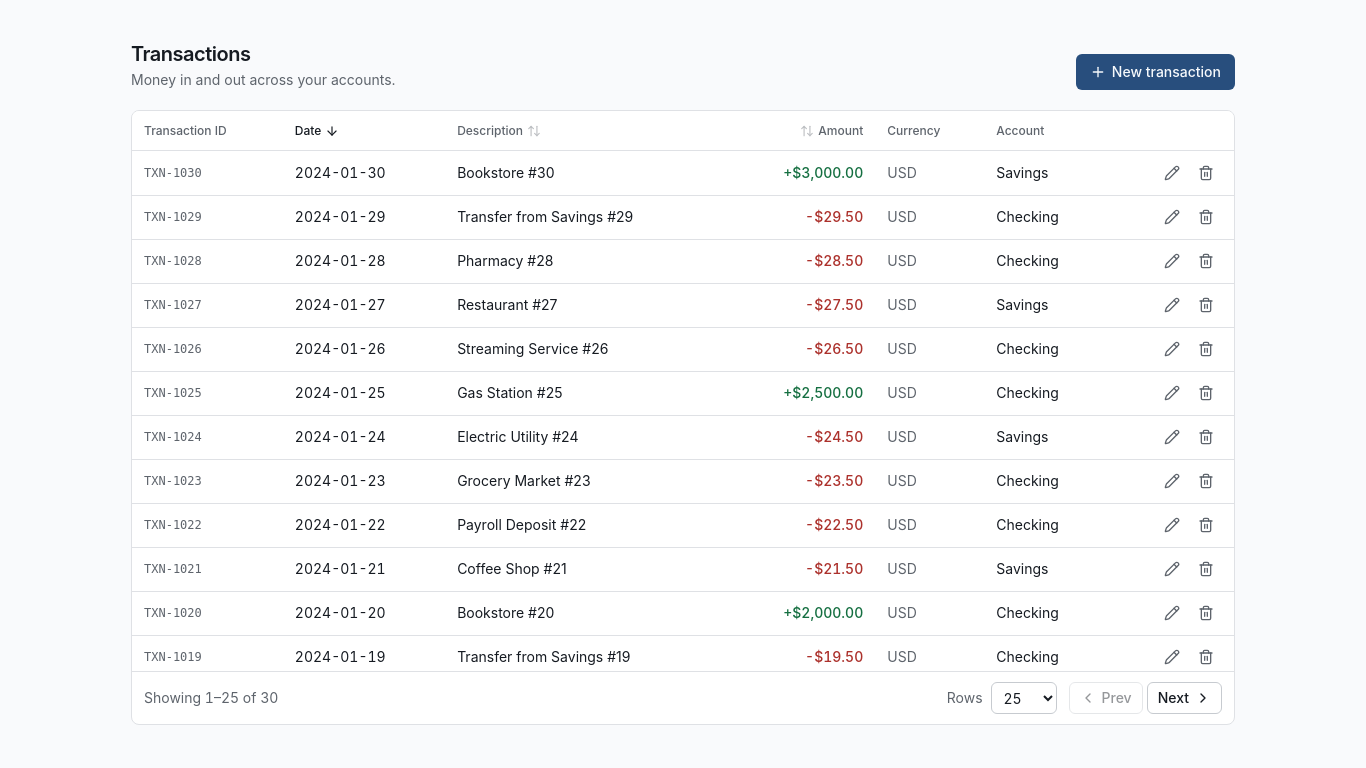
Test: TransactionsTable › clicking Next requests page 2 and shows its rows
The width and height of the screenshot is (1366, 768).
expect the text "TXN-1030" is shown: met, box [132,151,283,195]
Click the button "Next".
click(1184, 698)  # box [1147,682,1222,714]
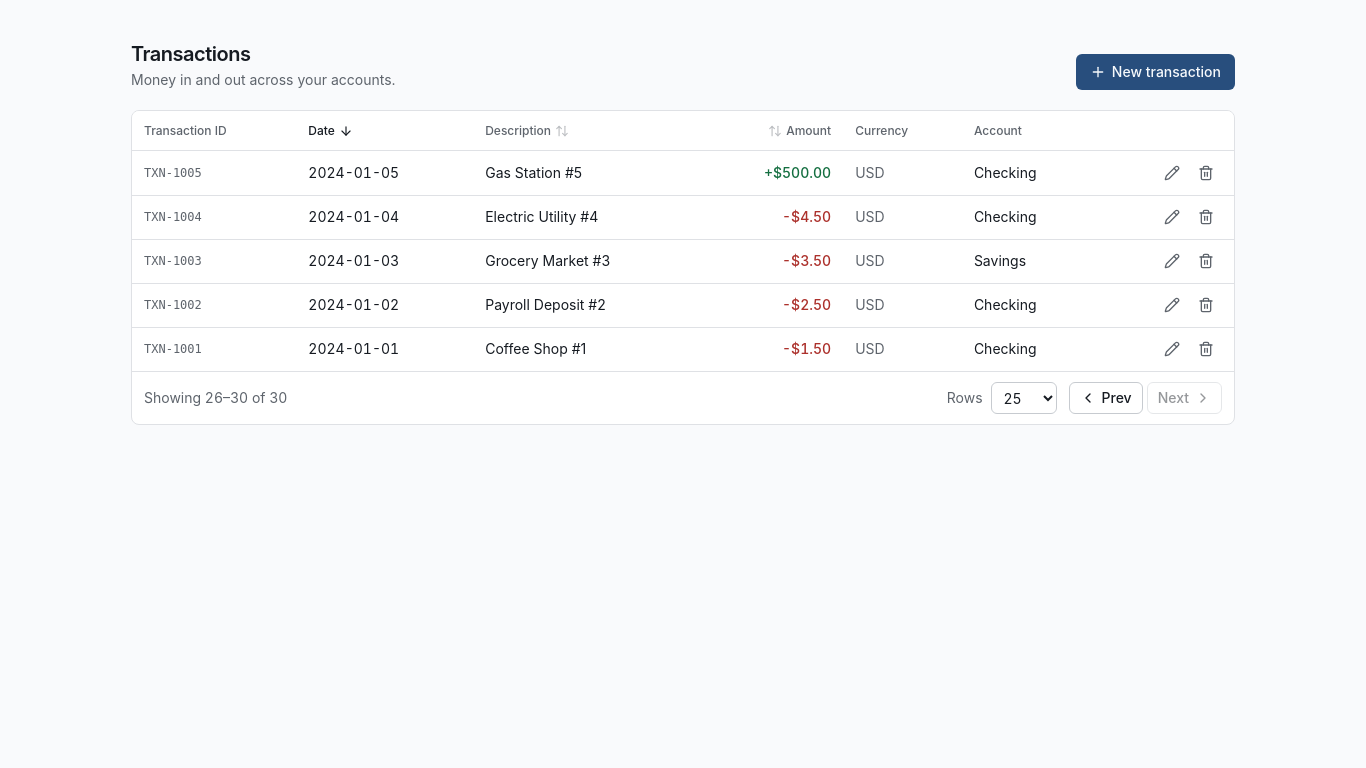
expect the text "TXN-1005" is shown: met, box [132,151,296,195]
expect the text "Showing 26–30 of 30" is shown: met, box [144,388,287,408]
expect the button "Next" is disabled: met, box [1147,382,1222,414]
